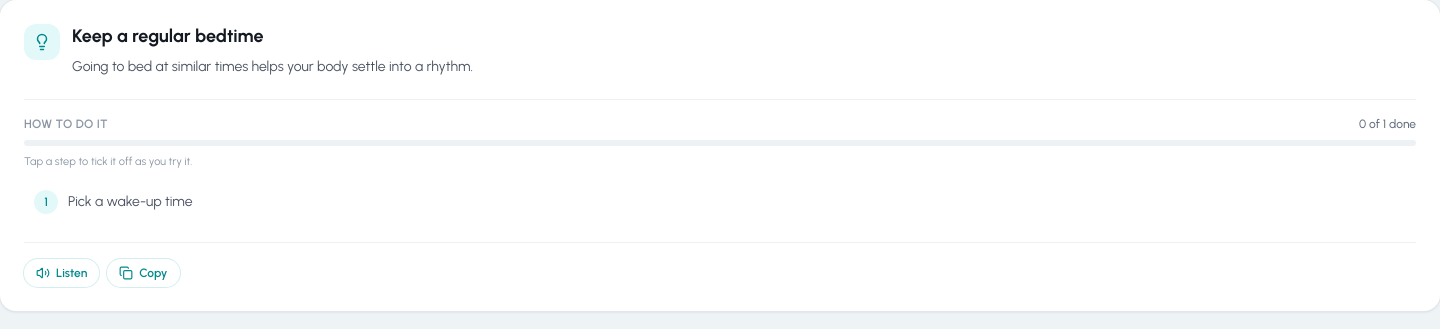
Scenario: HealthTipCard › copies the tip as text, and says so when the browser blocks it
This screenshot has width=1440, height=329.
Later steps or results of the test are not shown.
Click the button "Copy": coordinates (143, 273) [107,259,180,287]
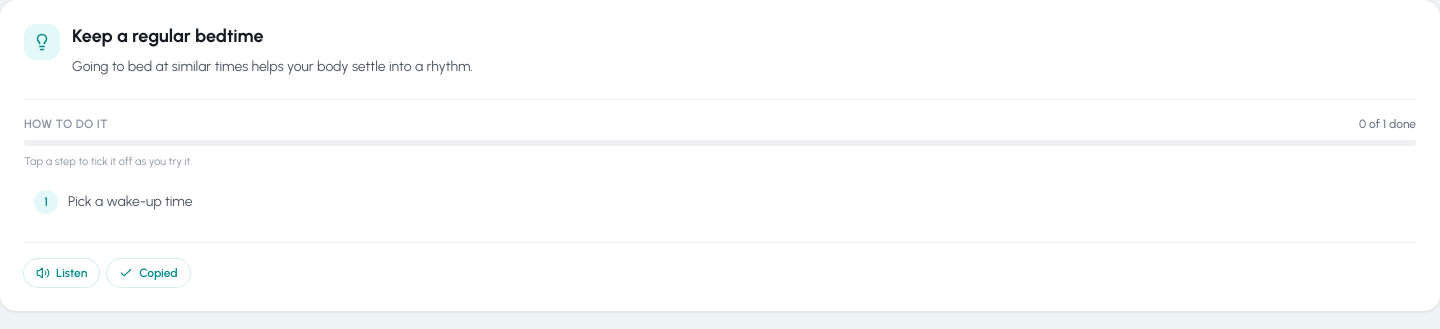
expect the button "Copied" is shown: met, box [107,259,190,287]
